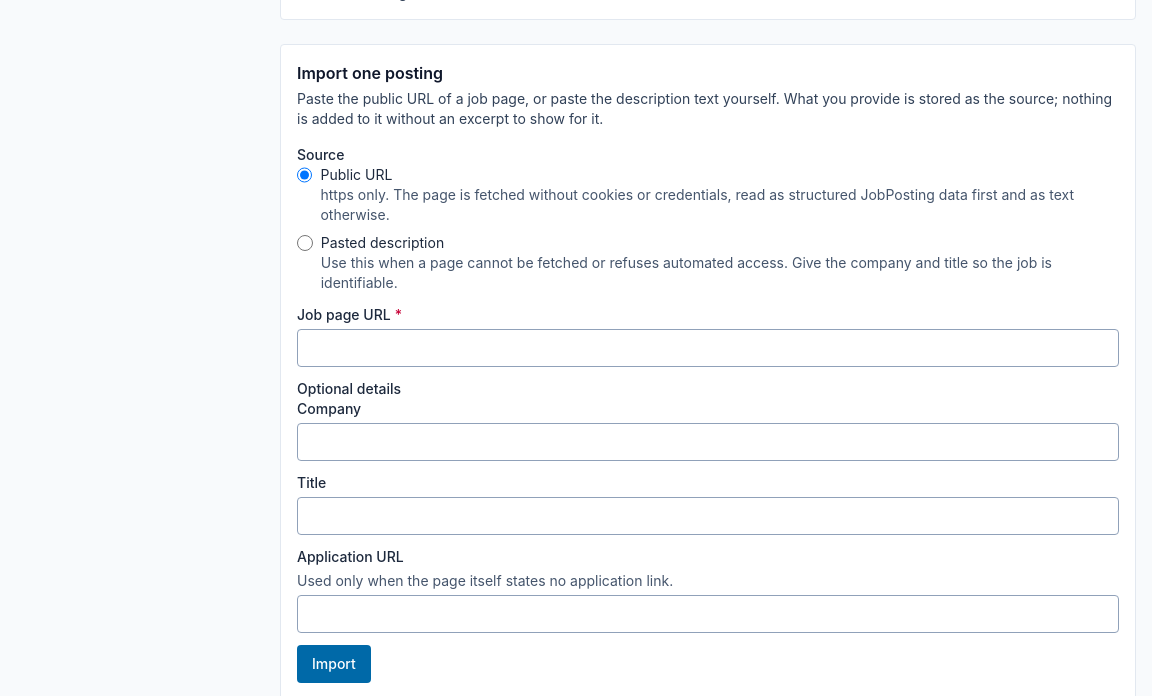
Scenario: discover: manual import › shows the real failure code and message when the task fails
(page scrolled)
Step 1. Type "https://careers.example.test/jobs/123" into the field labelled "Job page URL*" → (708, 348), box [297,329,1119,367]
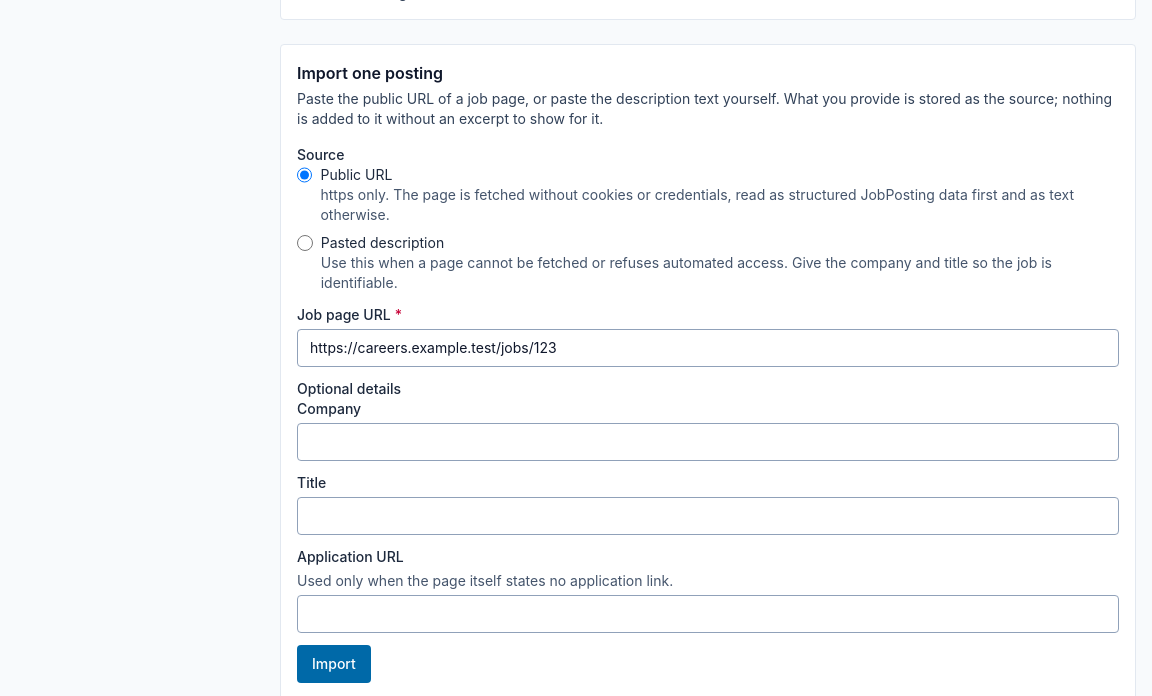
Step 2. Click the button "Import" → click(334, 664), box [297,645,371,683]
(page scrolled)
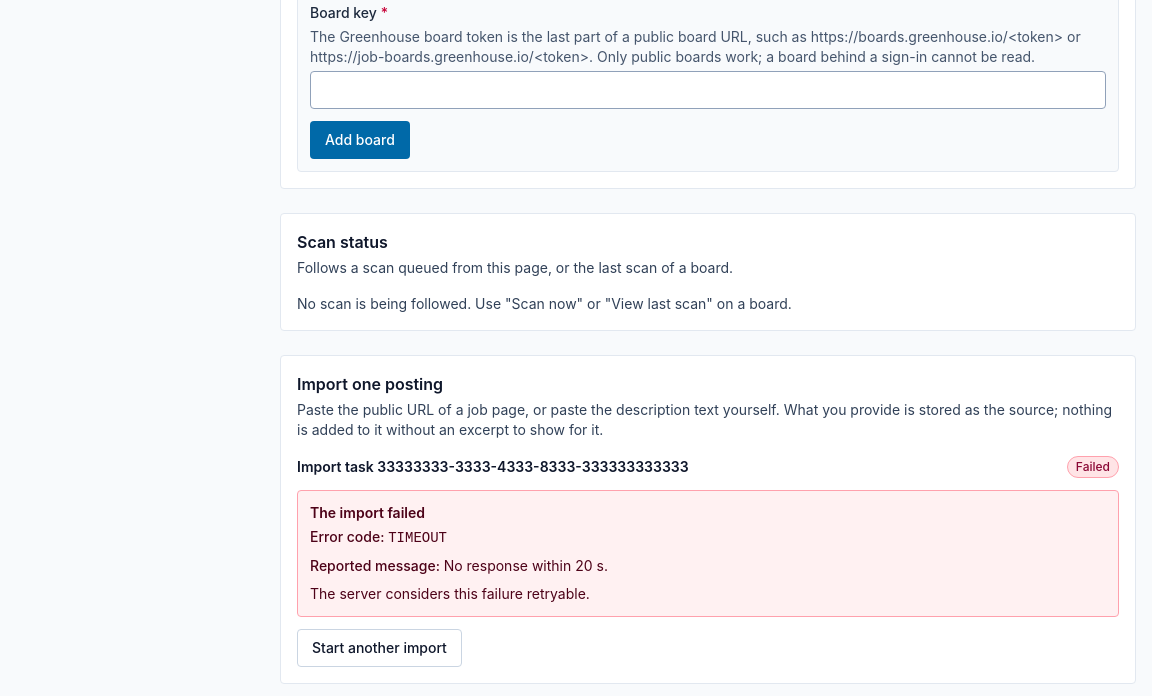
Result: the text with test id "failure-code" reads "TIMEOUT" at [388,530,447,546]
Result: the element with test id "failure-message" shows "No response within 20 s." at [444,557,608,574]
Result: the text "The server considers this failure retryable." is shown at [310,585,590,602]
